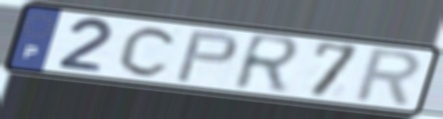2: (55, 15, 116, 77)
7: (310, 39, 363, 100)
C: (115, 24, 182, 79)
P: (172, 29, 241, 85)
R: (230, 31, 305, 97), (349, 46, 424, 110)
